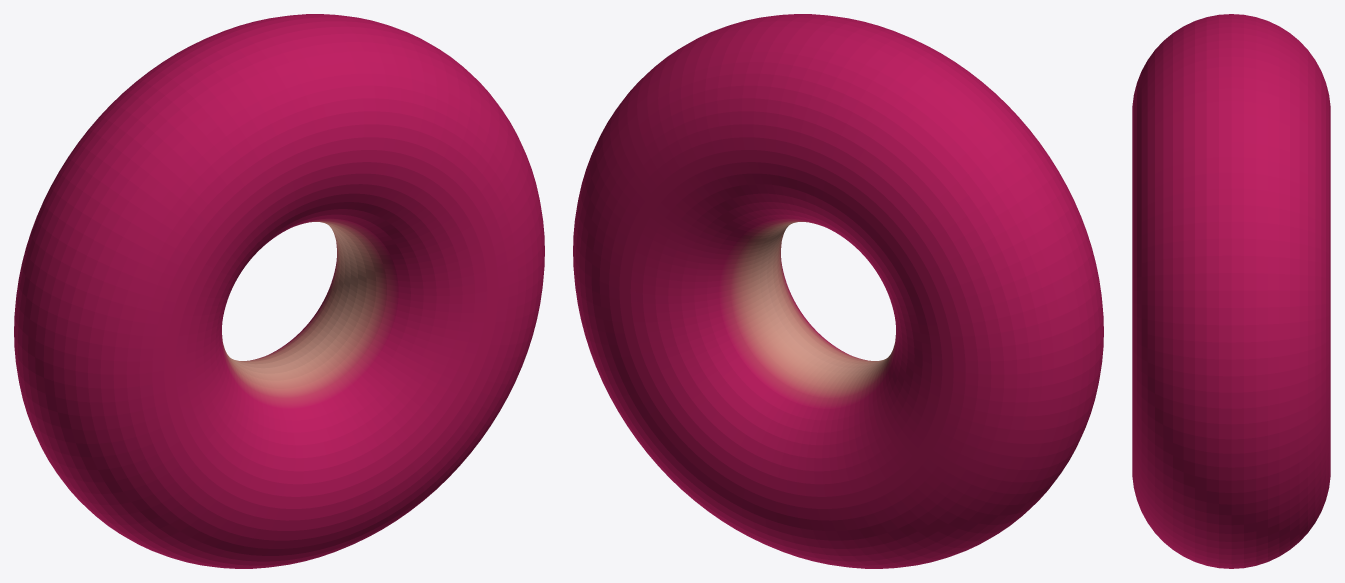
The picture shows the model from 3 angles, left to right: view 1: azimuth 30°, elevation 25°; view 2: azimuth 150°, elevation 25°; view 3: azimuth 270°, elevation 25°; orthographic projection. The views are drawn at different scales.
Parts seen in each view (by area): view 1: world; view 2: world; view 3: world.
Part boxes in pixels (<box>): world: <box>14,14,544,568</box>; world: <box>573,14,1103,568</box>; world: <box>1132,14,1330,568</box>.
Bounding box in the file's own units: 19.73 × 19.73 × 7.05.
